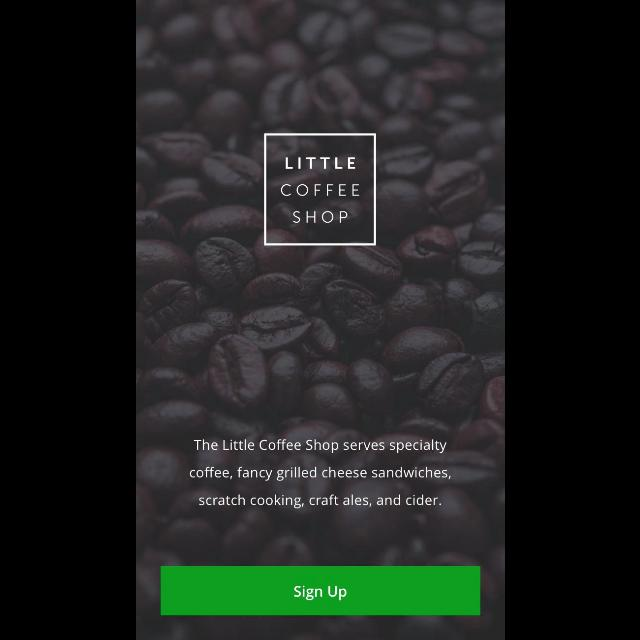backgroundimage: (136, 1, 504, 640)
image: (262, 134, 376, 246)
text: (189, 439, 451, 509)
textbutton: (160, 566, 480, 616)
